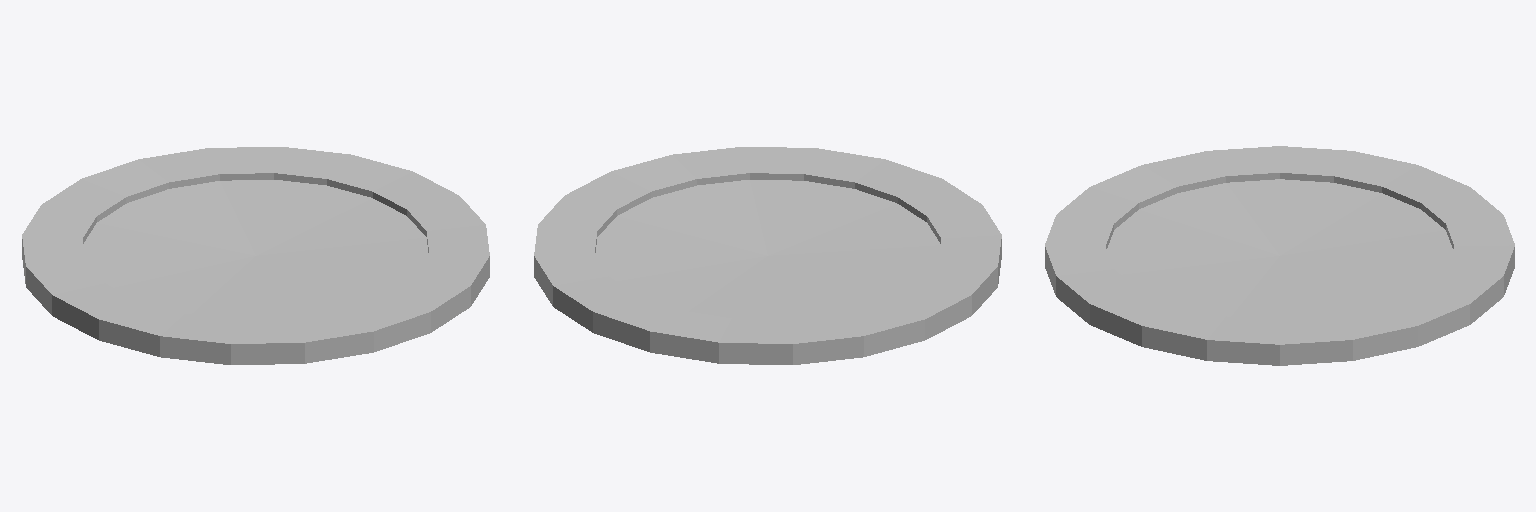
The model's file is Cucumba.obj.
The picture shows the model from 3 angles: view 1: azimuth 30°, elevation 25°; view 2: azimuth 150°, elevation 25°; view 3: azimuth 270°, elevation 25°; orthographic projection.
Visible parts, largest first — view 1: Cucumber_Sphere.002; view 2: Cucumber_Sphere.002; view 3: Cucumber_Sphere.002.
Boxes of the visible parts, x1=… form: Cucumber_Sphere.002: x1=22, y1=147, x2=489, y2=364; Cucumber_Sphere.002: x1=534, y1=147, x2=1001, y2=364; Cucumber_Sphere.002: x1=1045, y1=146, x2=1514, y2=365.
Bounding box in the file's own units: 0.3851 × 0.0191 × 0.3851.